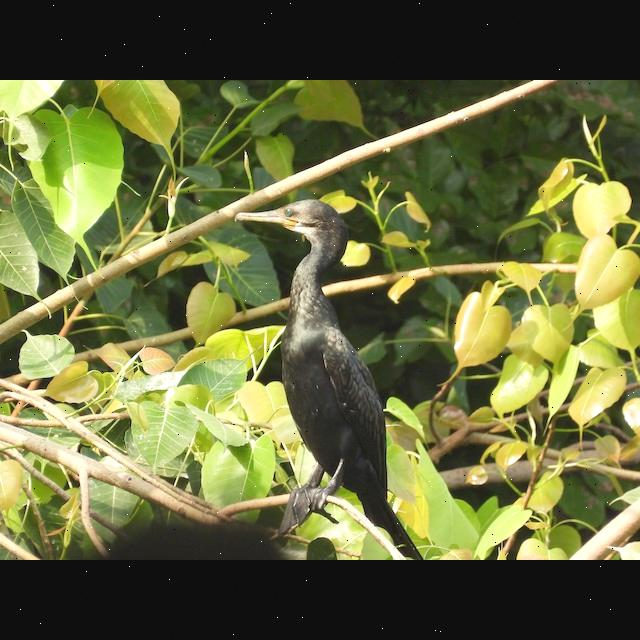cormorant: (224, 194, 423, 560)
